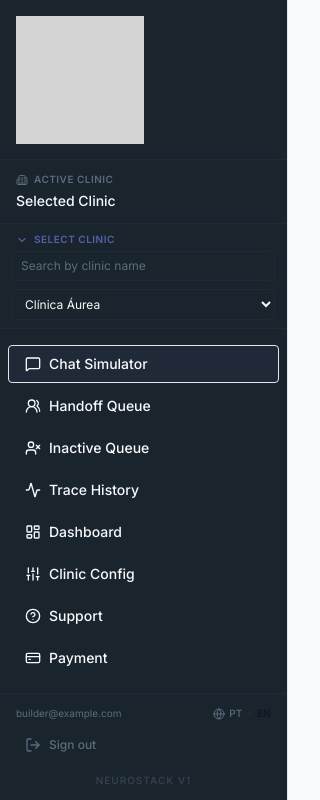
it: <Layout /> clinic selector search › renders a localized builder empty state without changing context
The image size is (320, 800).
Type "missing clinic" into the search field with test id "builder-clinic-search" at (144, 266), box top-left (12, 251), bottom-right (275, 281)
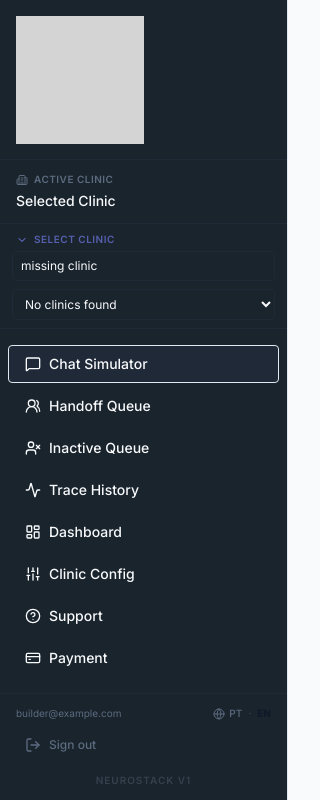
expect the dropdown with test id "builder-clinic-dropdown" shows "No clinics found": met, box top-left (12, 289), bottom-right (275, 320)
